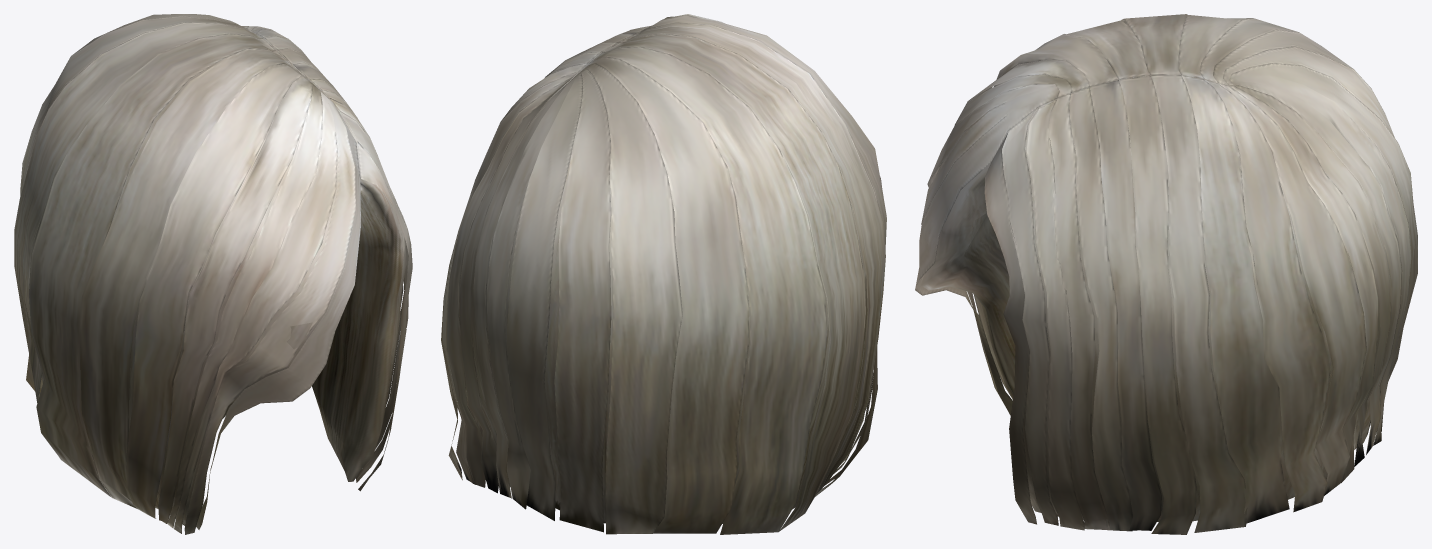
The model's file is hair.fbx.
3 views of the same model, side by side, from view 1: azimuth 30°, elevation 25°; view 2: azimuth 150°, elevation 25°; view 3: azimuth 270°, elevation 25° (orthographic). The views are drawn at different scales.
Parts seen in each view (by area): view 1: Object_4; view 2: Object_4; view 3: Object_4.
Boxes of the visible parts, x1,y1,x2,y2 form: Object_4: [14, 14, 412, 534]; Object_4: [441, 14, 886, 534]; Object_4: [915, 14, 1417, 534].
Bounding box in the file's own units: 120 × 148 × 147.
Materials: 1 (1 with a texture image).
